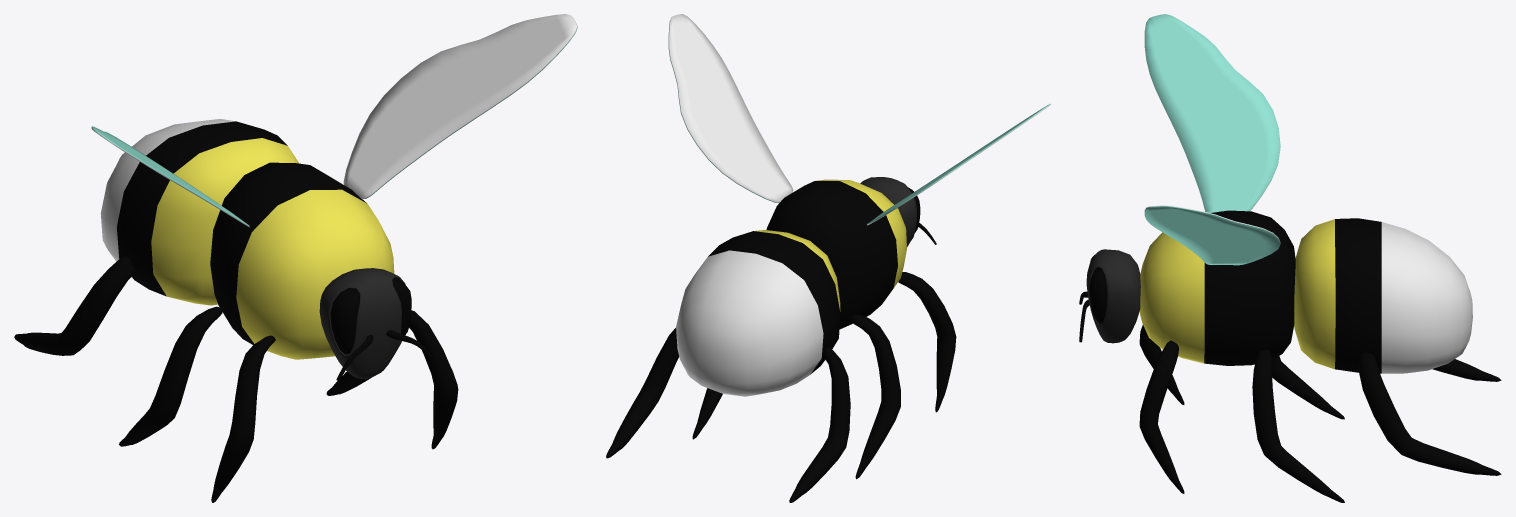
The model's file is Buff-tailed Bumble Bee implementation.fbx.
3 renders of one model, left to right at view 1: azimuth 30°, elevation 25°; view 2: azimuth 150°, elevation 25°; view 3: azimuth 270°, elevation 25°, orthographic. The views are drawn at different scales.
Visible parts, largest first — view 1: Cube.001; view 2: Cube.001; view 3: Cube.001.
Boxes of the visible parts, left/top/right/bottom form: Cube.001: left=14, top=14, right=577, bottom=502; Cube.001: left=606, top=14, right=1050, bottom=502; Cube.001: left=1079, top=14, right=1501, bottom=502.
Size of the model in its own units: 7.85 by 6.71 by 7.3.
